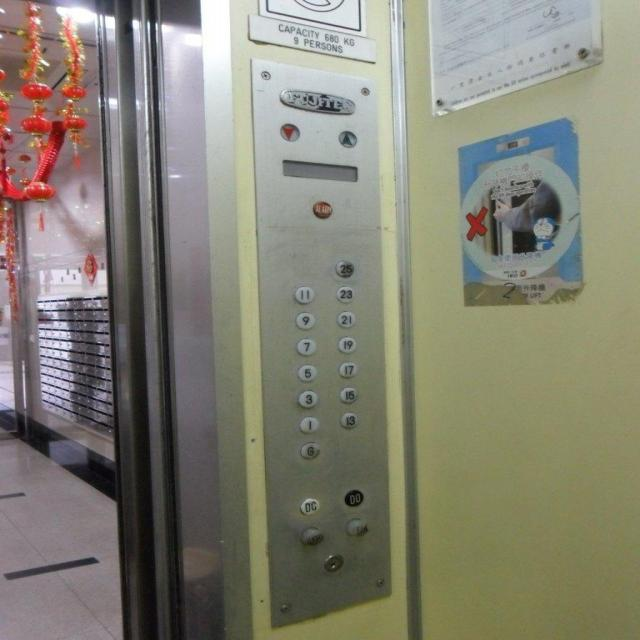1: (298, 416, 318, 432)
11: (294, 286, 314, 303)
13: (340, 412, 358, 427)
15: (339, 387, 357, 402)
17: (338, 362, 357, 377)
19: (337, 337, 356, 352)
21: (336, 310, 354, 328)
23: (336, 284, 354, 302)
25: (335, 260, 353, 277)
3: (298, 390, 316, 408)
5: (296, 364, 316, 382)
7: (296, 338, 315, 355)
9: (295, 312, 315, 329)
DC: (298, 496, 319, 515)
DO: (344, 489, 364, 506)
G: (300, 442, 319, 459)
down: (279, 123, 300, 141)
keyhole: (322, 554, 343, 572)
text_ALARM: (312, 201, 332, 219)
text_blur: (301, 527, 323, 545), (345, 518, 367, 536)
up: (338, 130, 357, 148)
